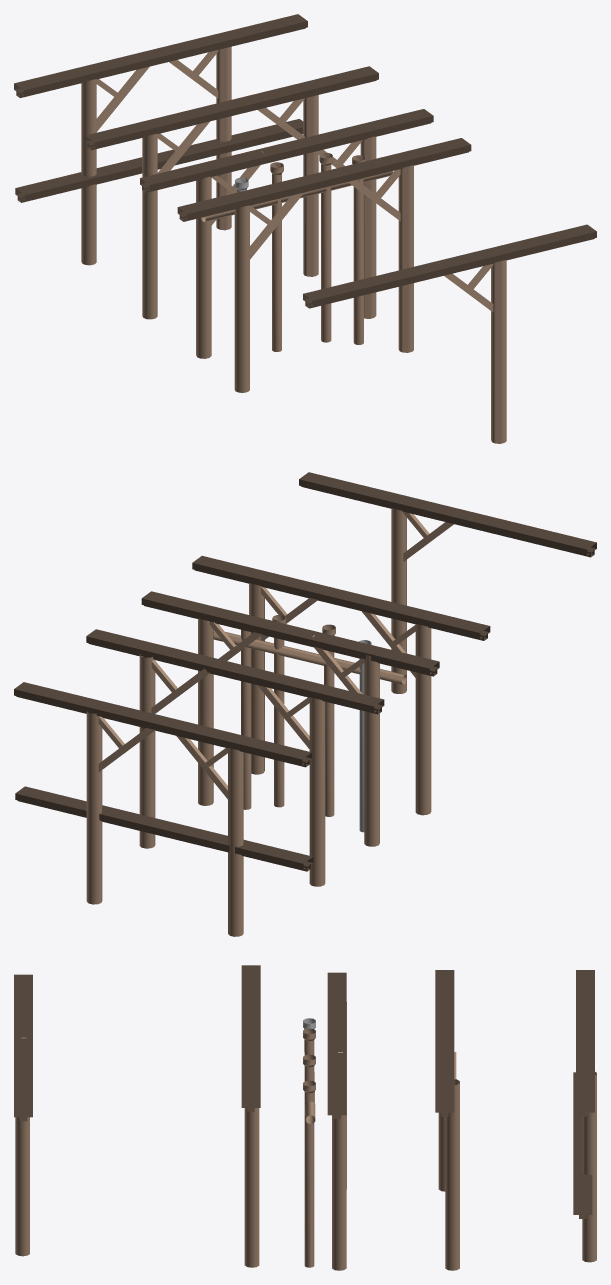
Rendered from ACT3_Constructs_fin.fbx.
3 renders of one model, top to bottom at view 1: azimuth 30°, elevation 25°; view 2: azimuth 150°, elevation 25°; view 3: azimuth 270°, elevation 25°, orthographic. The views are drawn at different scales.
Visible parts, largest first — view 1: Balk_b (×6), Pillar_base (×9), Pillar_side (×3), Pillar_13, Pillar_15, Pillar_09, Pillar_Over_03; view 2: Balk_b (×6), Pillar_base (×9), Pillar_09, Pillar_Over_03, Pillar_13, Pillar_15, Pillar_side (×2), Pillar_14; view 3: Balk_b (×6), Pillar_base (×6), Pillar_15.
Boxes of the visible parts, x1=… form: Balk_b (×6): x1=14, y1=14, x2=596, y2=306; Pillar_base (×9): x1=81, y1=46, x2=506, y2=443; Pillar_side (×3): x1=96, y1=66, x2=303, y2=259; Pillar_13: x1=319, y1=153, x2=332, y2=342; Pillar_15: x1=352, y1=155, x2=365, y2=344; Pillar_09: x1=270, y1=162, x2=283, y2=351; Pillar_Over_03: x1=201, y1=171, x2=392, y2=221; Balk_b (×6): x1=14, y1=472, x2=596, y2=869; Pillar_base (×9): x1=86, y1=508, x2=431, y2=936; Pillar_09: x1=322, y1=624, x2=335, y2=816; Pillar_Over_03: x1=213, y1=630, x2=406, y2=684; Pillar_13: x1=272, y1=615, x2=286, y2=807; Pillar_15: x1=241, y1=629, x2=251, y2=809; Pillar_side (×2): x1=176, y1=685, x2=309, y2=799; Pillar_14: x1=358, y1=640, x2=371, y2=832; Balk_b (×6): x1=14, y1=965, x2=594, y2=1214; Pillar_base (×6): x1=15, y1=1072, x2=596, y2=1270; Pillar_15: x1=303, y1=1080, x2=315, y2=1267.
Bounding box in the file's own units: 17.12 × 11.3 × 29.66.
